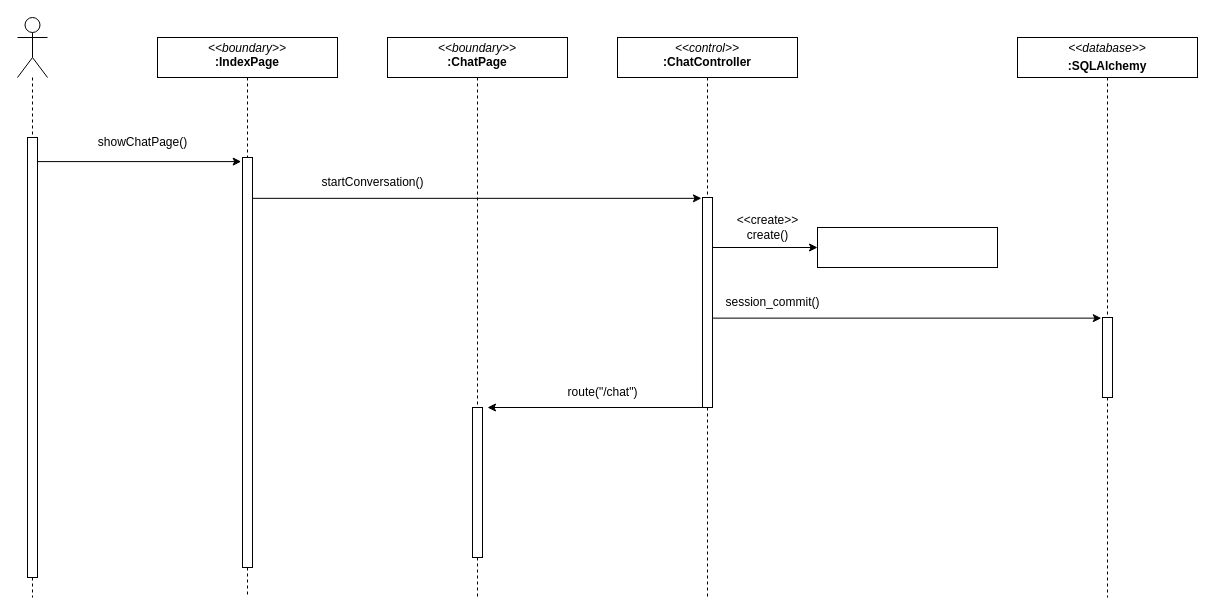
The diagram is 1215 pixels wide and 616 high, and some of its shapes have lost their labels. Each missing label, with the box of its shape:
:User: (16, 16, 48, 78)
<<entity >> newChat:Chat: (816, 226, 998, 268)
